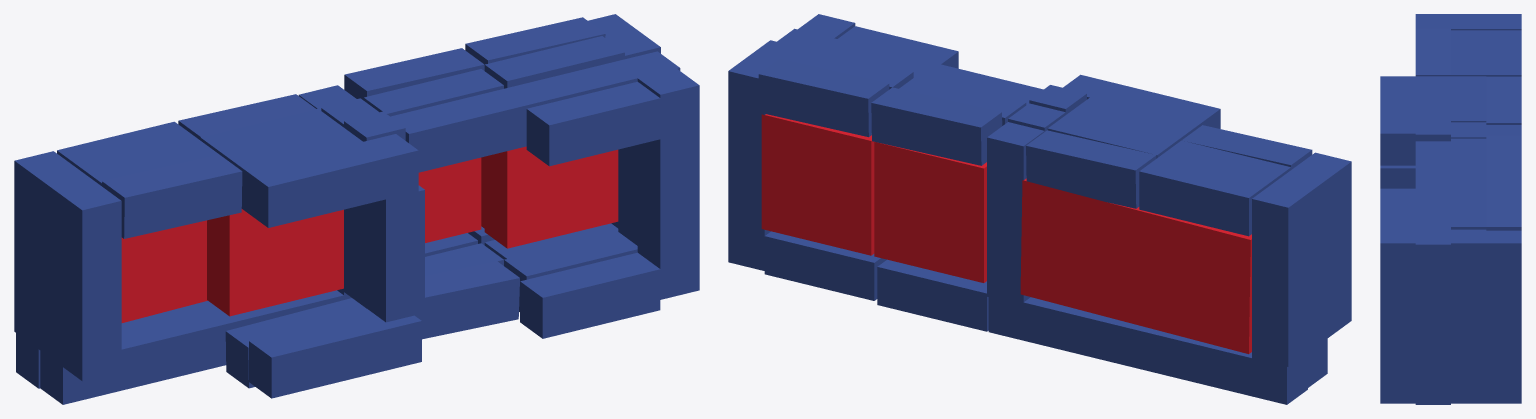
Rendered from tinker.obj.
3 views of the same model, side by side, from view 1: azimuth 30°, elevation 25°; view 2: azimuth 150°, elevation 25°; view 3: azimuth 270°, elevation 25° (orthographic). The views are drawn at different scales.
Parts seen in each view (by area): view 1: group_0_3888547, group_0_15277357; view 2: group_0_3888547, group_0_15277357; view 3: group_0_3888547.
Boxes of the visible parts, x1,y1,x2,y2 form: group_0_3888547: (14,14,699,404); group_0_15277357: (121,146,618,322); group_0_3888547: (728,14,1351,404); group_0_15277357: (761,114,1251,354); group_0_3888547: (1380,14,1521,404).
Bounding box in the file's own units: 184 × 66 × 48.
